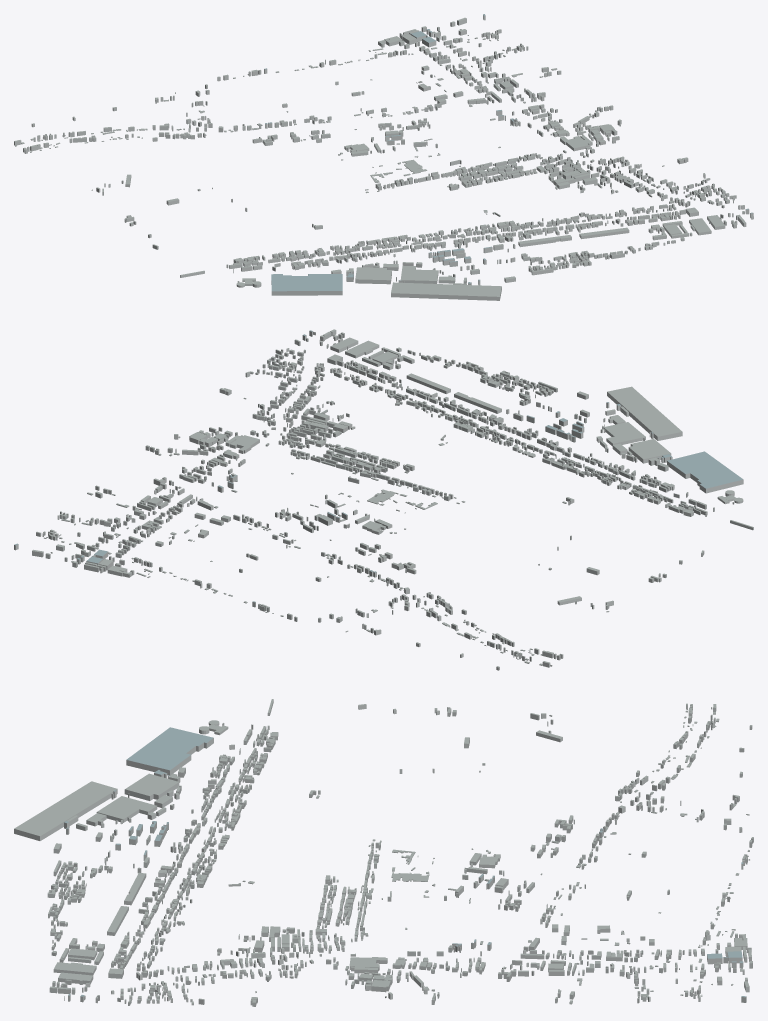
The model's file is far.glb.
3 views of the same model, one above another, from view 1: azimuth 30°, elevation 25°; view 2: azimuth 150°, elevation 25°; view 3: azimuth 270°, elevation 25° (orthographic). The views are drawn at different scales.
Size of the model in its own units: 2149 by 22.13 by 2206.
